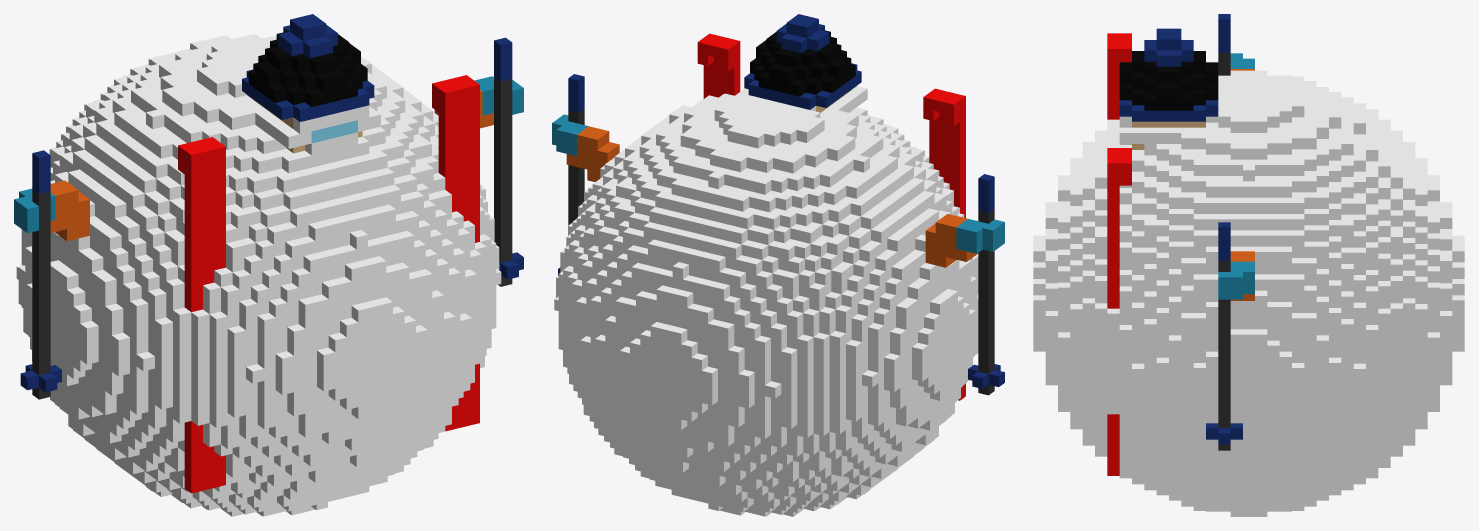
File: Skieur_victoire_boule_01.obj
3 views of the same model, side by side, from view 1: azimuth 30°, elevation 25°; view 2: azimuth 150°, elevation 25°; view 3: azimuth 270°, elevation 25° (orthographic). The views are drawn at different scales.
Bounding box in the file's own units: 43 × 41 × 35.
Materials: 1 (1 with a texture image).
